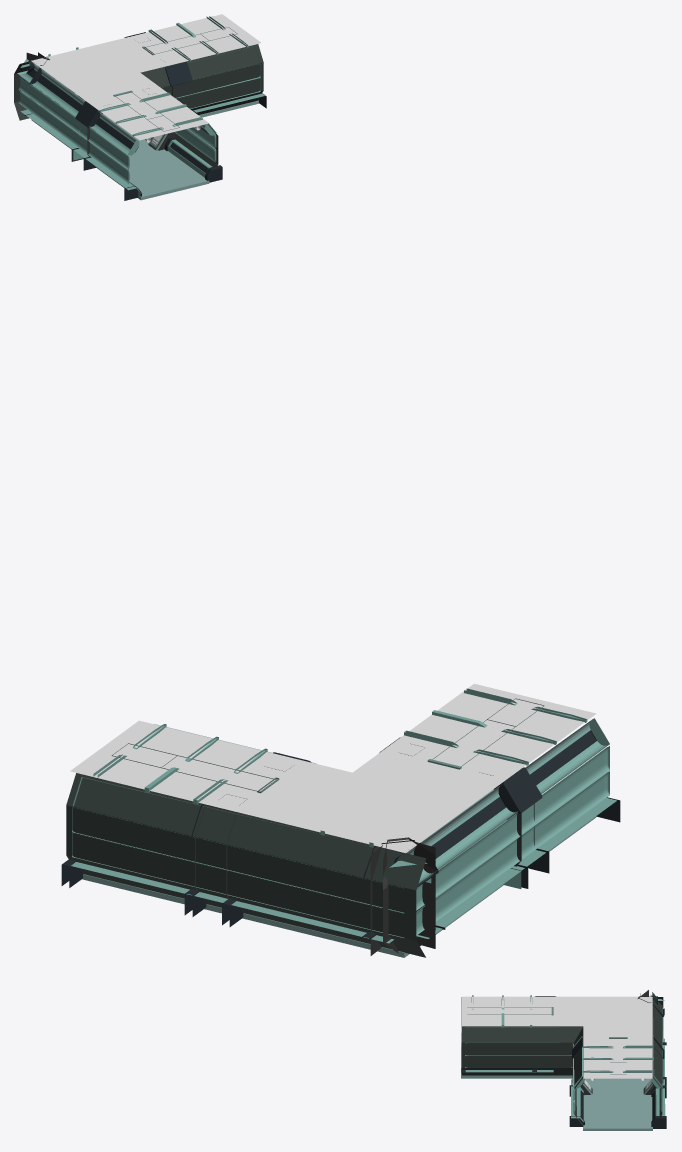
Rendered from rouka_曲がり角(右).fbx.
3 renders of one model, top to bottom at view 1: azimuth 30°, elevation 25°; view 2: azimuth 150°, elevation 25°; view 3: azimuth 270°, elevation 25°, orthographic. The views are drawn at different scales.
Parts seen in each view (by area): view 1: 床.001; view 2: 床.001; view 3: 床.001.
Boxes of the visible parts, x1,y1,x2,y2 form: 床.001: [14, 14, 266, 200]; 床.001: [61, 683, 620, 957]; 床.001: [461, 990, 666, 1130].
Bounding box in the file's own units: 3841 × 783 × 8611.
